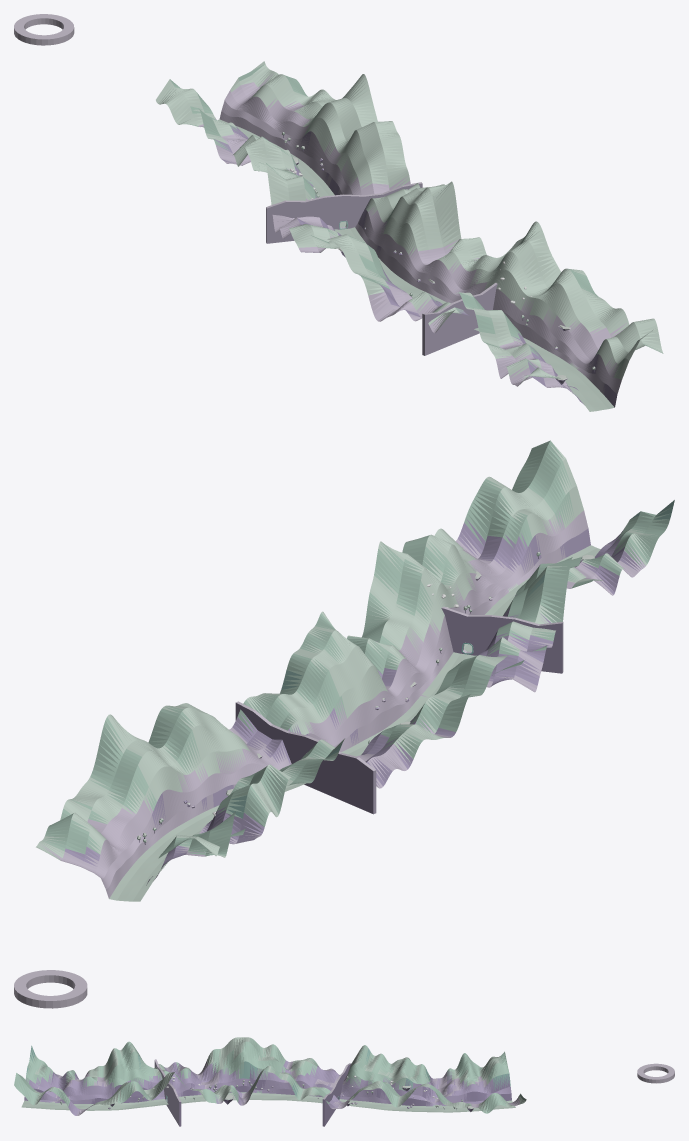
File: level_5.glb
3 views of the same model, one above another, from view 1: azimuth 30°, elevation 25°; view 2: azimuth 150°, elevation 25°; view 3: azimuth 270°, elevation 25° (orthographic). The views are drawn at different scales.
Visible parts, largest first — view 1: terrain_1, terrain_4, terrain_7, terrain_2, terrain_9, terrain_0, terrain_8, terrain_3, terrain_6, terrain_5, wall_1, wall_0 (+1 smaller); view 2: terrain_0, terrain_8, terrain_5, terrain_3, terrain_7, terrain_2, terrain_9, terrain_4, terrain_1, terrain_6, wall_1, wall_0 (+1 smaller); view 3: terrain_4, terrain_7, terrain_9, terrain_1, terrain_0, terrain_2, terrain_5, terrain_6, terrain_8, terrain_3, wall_0, wall_1 (+1 smaller).
Boxes of the visible parts, x1,y1,x2,y2 form: terrain_1: [473, 275, 629, 379]; terrain_4: [311, 181, 480, 297]; terrain_7: [235, 98, 402, 197]; terrain_2: [428, 221, 589, 348]; terrain_9: [156, 61, 316, 141]; terrain_0: [506, 318, 663, 411]; terrain_8: [201, 74, 371, 174]; terrain_3: [362, 236, 525, 321]; terrain_6: [258, 148, 420, 238]; terrain_5: [279, 184, 445, 271]; wall_1: [266, 182, 422, 243]; wall_0: [422, 283, 497, 355]; terrain_0: [466, 440, 674, 580]; terrain_8: [63, 714, 271, 865]; terrain_5: [265, 624, 468, 770]; terrain_3: [362, 557, 555, 696]; terrain_7: [138, 703, 323, 829]; terrain_2: [377, 534, 581, 657]; terrain_9: [36, 808, 235, 901]; terrain_4: [316, 611, 524, 732]; terrain_1: [434, 518, 618, 616]; terrain_6: [212, 693, 394, 791]; wall_1: [235, 701, 376, 814]; wall_0: [441, 606, 563, 673]; terrain_4: [213, 1037, 275, 1105]; terrain_7: [358, 1053, 421, 1111]; terrain_9: [461, 1051, 526, 1113]; terrain_1: [69, 1048, 129, 1115]; terrain_0: [14, 1045, 76, 1110]; terrain_2: [116, 1041, 179, 1109]; terrain_5: [267, 1045, 331, 1102]; terrain_6: [309, 1045, 380, 1109]; terrain_8: [415, 1058, 474, 1112]; terrain_3: [160, 1050, 228, 1103]; wall_0: [154, 1059, 181, 1126]; wall_1: [322, 1063, 351, 1126].
Size of the model in its own units: 611 by 295 by 3148.
